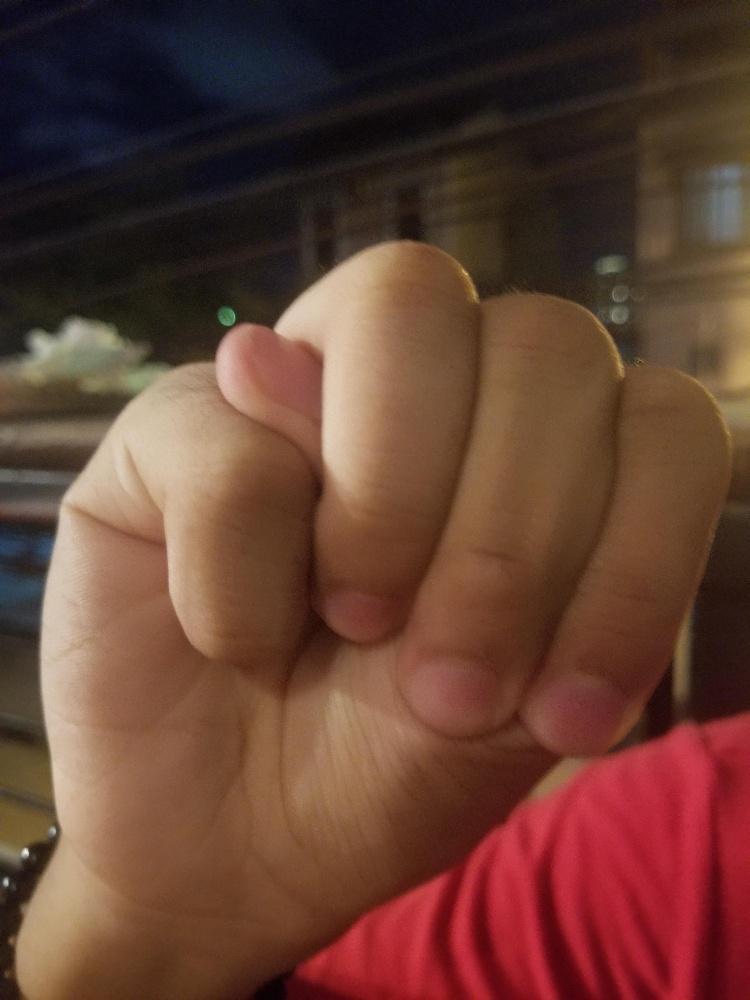m: (36, 238, 731, 911)
